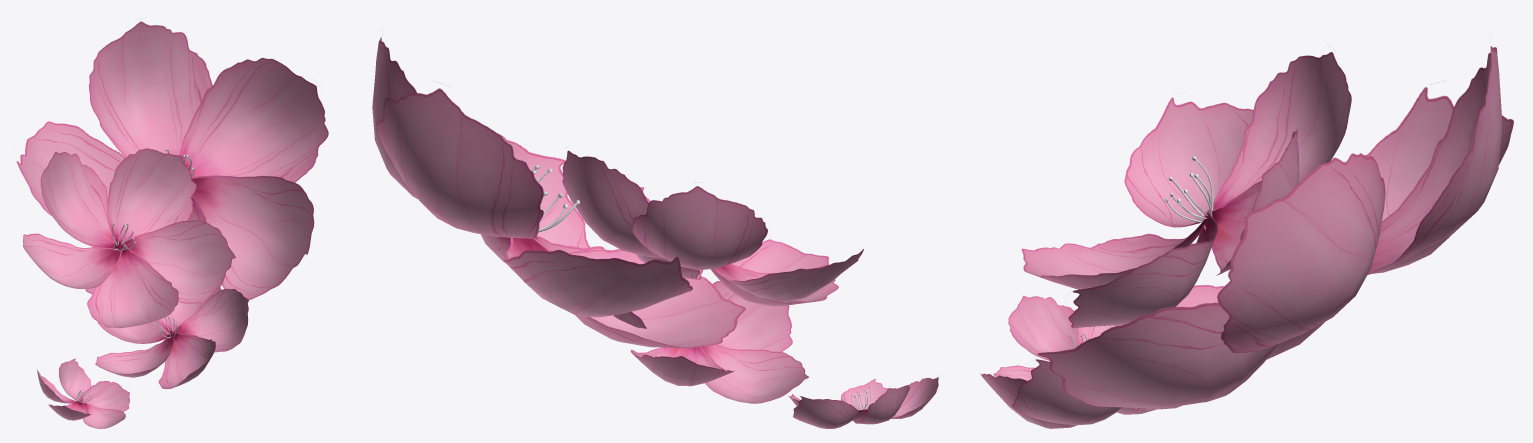
File: SakuraStage.glb
3 views of the same model, side by side, from view 1: azimuth 30°, elevation 25°; view 2: azimuth 150°, elevation 25°; view 3: azimuth 270°, elevation 25° (orthographic). The views are drawn at different scales.
Parts seen in each view (by area): view 1: SakuraBlossom_28, SakuraBlossom_26, SakuraBlossom_24, SakuraBlossom_19, SakuraBlossom_30, SakuraBlossom_31, SakuraBlossom_13, SakuraBlossom_29, SakuraBlossom_16, SakuraBlossom_32, SakuraBlossom_34, SakuraBlossom_35 (+6 smaller); view 2: SakuraBlossom_25, SakuraBlossom_22, SakuraBlossom_17, SakuraBlossom_21, SakuraBlossom_18, SakuraBlossom_35, SakuraBlossom_24, SakuraBlossom_34, SakuraBlossom_15, SakuraBlossom_13, SakuraBlossom_27, SakuraBlossom_7 (+9 smaller); view 3: SakuraBlossom_27, SakuraBlossom_23, SakuraBlossom_16, SakuraBlossom_31, SakuraBlossom_14, SakuraBlossom_26, SakuraBlossom_25, SakuraBlossom_29, SakuraBlossom_13, SakuraBlossom_10, SakuraBlossom_38, SakuraBlossom_19 (+6 smaller).
Boxes of the visible parts, x1,y1,x2,y2 form: SakuraBlossom_28: [179, 58, 328, 182]; SakuraBlossom_26: [89, 21, 212, 157]; SakuraBlossom_24: [191, 175, 313, 299]; SakuraBlossom_19: [107, 148, 196, 246]; SakuraBlossom_30: [120, 220, 235, 303]; SakuraBlossom_31: [41, 151, 119, 249]; SakuraBlossom_13: [87, 246, 178, 327]; SakuraBlossom_29: [17, 121, 125, 214]; SakuraBlossom_16: [23, 233, 122, 288]; SakuraBlossom_32: [172, 289, 248, 352]; SakuraBlossom_34: [158, 332, 215, 388]; SakuraBlossom_35: [95, 334, 174, 374]; SakuraBlossom_25: [376, 88, 543, 239]; SakuraBlossom_22: [504, 237, 692, 317]; SakuraBlossom_17: [632, 186, 767, 270]; SakuraBlossom_21: [523, 236, 745, 347]; SakuraBlossom_18: [562, 150, 663, 258]; SakuraBlossom_35: [701, 344, 808, 403]; SakuraBlossom_24: [499, 134, 590, 248]; SakuraBlossom_34: [712, 281, 792, 351]; SakuraBlossom_15: [714, 249, 863, 302]; SakuraBlossom_13: [731, 239, 838, 302]; SakuraBlossom_27: [372, 37, 417, 198]; SakuraBlossom_7: [630, 350, 733, 386]; SakuraBlossom_27: [1217, 153, 1385, 352]; SakuraBlossom_23: [1037, 303, 1278, 408]; SakuraBlossom_16: [1124, 97, 1253, 227]; SakuraBlossom_31: [1204, 52, 1350, 218]; SakuraBlossom_14: [1068, 216, 1217, 328]; SakuraBlossom_26: [1368, 46, 1496, 274]; SakuraBlossom_25: [1367, 46, 1501, 274]; SakuraBlossom_29: [1365, 87, 1512, 221]; SakuraBlossom_13: [1021, 219, 1206, 276]; SakuraBlossom_10: [1011, 359, 1122, 425]; SakuraBlossom_38: [1008, 296, 1078, 360]; SakuraBlossom_19: [1203, 129, 1297, 275].
Size of the model in its own units: 1.38 by 1.09 by 1.09.
Materials: 3 (2 with a texture image).
